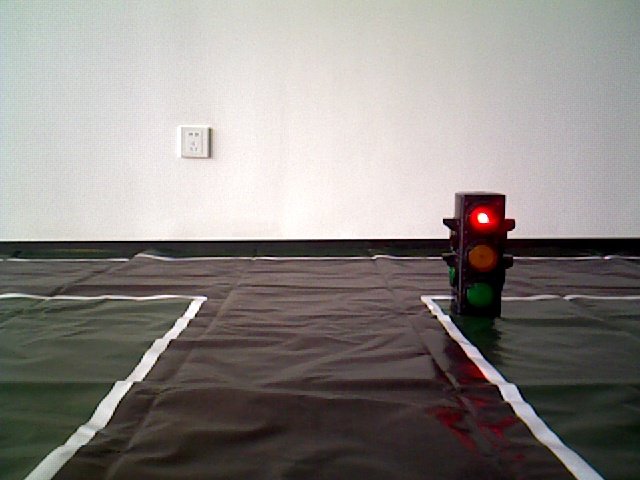red: (454, 201, 505, 320)
